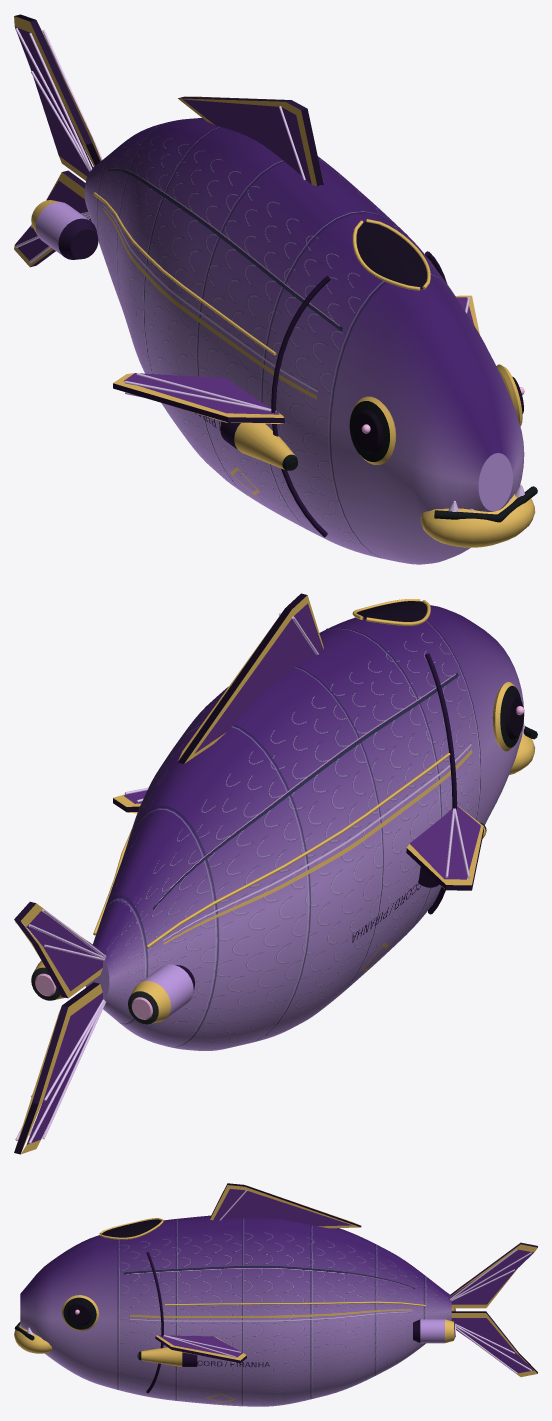
The picture shows the model from 3 angles, top to bottom: view 1: azimuth 30°, elevation 25°; view 2: azimuth 150°, elevation 25°; view 3: azimuth 270°, elevation 25°; orthographic projection. The views are drawn at different scales.
Visible parts, largest first — view 1: piranha_hull; view 2: piranha_hull; view 3: piranha_hull.
Part boxes in pixels (x1=…): piranha_hull: x1=14, y1=14, x2=537, y2=564; piranha_hull: x1=14, y1=593, x2=537, y2=1154; piranha_hull: x1=14, y1=1183, x2=537, y2=1406.
Bounding box in the file's own units: 6.42 × 6.94 × 15.
Materials: 1 (1 with a texture image).
